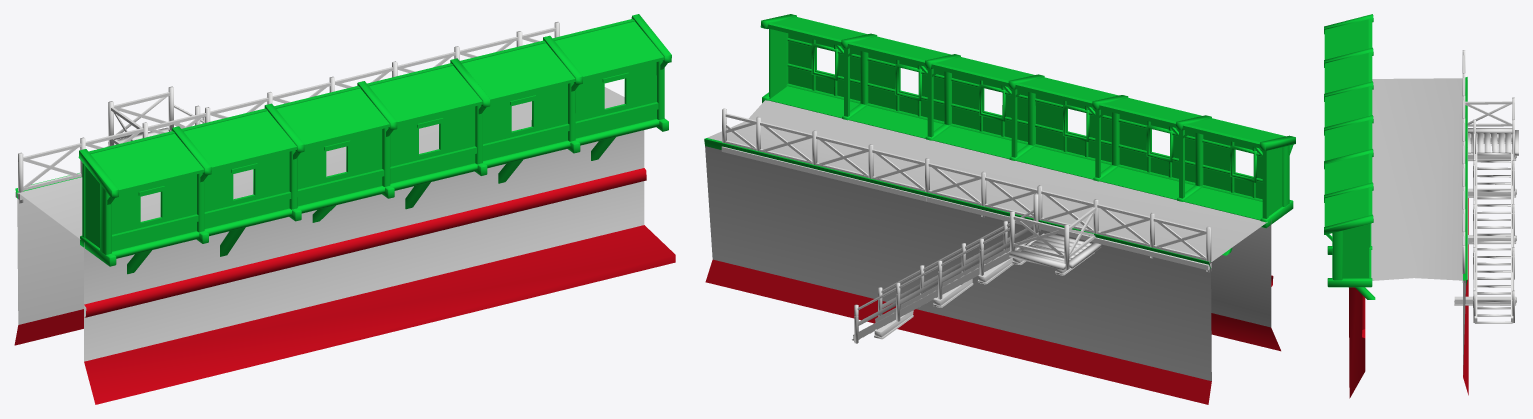
File: Wall_3v2 (2).fbx
3 renders of one model, left to right at view 1: azimuth 30°, elevation 25°; view 2: azimuth 150°, elevation 25°; view 3: azimuth 270°, elevation 25°, orthographic. The views are drawn at different scales.
Parts seen in each view (by area): view 1: Group_4.015, Group_4.028, Group_3.012, Group_3.013; view 2: Group_4.015, Group_4.028, Group_3.012, Group_3.013, Group_3.011; view 3: Group_4.015, Group_4.028, Group_3.013, Group_3.012.
Boxes of the visible parts, bbox=[...] form: Group_4.015: bbox=[14, 87, 675, 404]; Group_4.028: bbox=[78, 14, 671, 274]; Group_3.012: bbox=[15, 22, 559, 203]; Group_3.013: bbox=[107, 86, 204, 146]; Group_4.015: bbox=[704, 100, 1280, 404]; Group_4.028: bbox=[760, 14, 1295, 255]; Group_3.012: bbox=[721, 108, 1211, 272]; Group_3.013: bbox=[852, 193, 1101, 343]; Group_3.011: bbox=[1039, 190, 1095, 242]; Group_4.015: bbox=[1349, 77, 1468, 398]; Group_4.028: bbox=[1324, 14, 1375, 299]; Group_3.013: bbox=[1454, 97, 1518, 323]; Group_3.012: bbox=[1462, 50, 1467, 282].
Bounding box in the file's own units: 1929 × 769 × 753.
